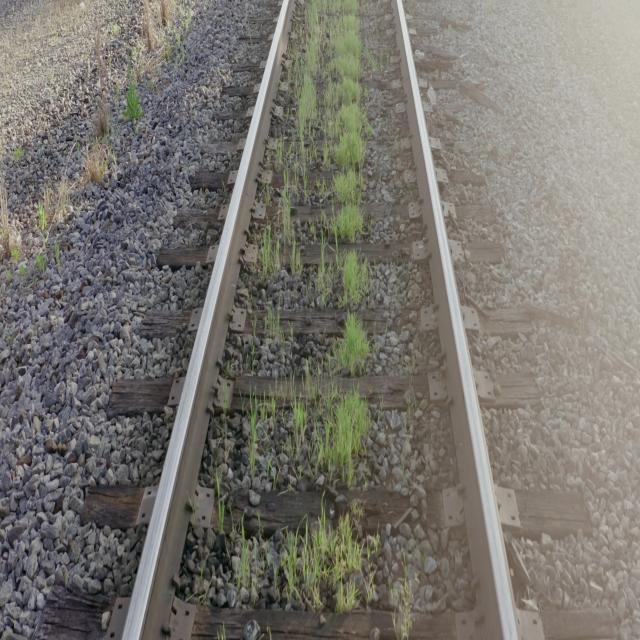Plant: (279, 0, 368, 242), (265, 509, 379, 611), (291, 391, 370, 487), (315, 240, 370, 307), (331, 313, 370, 376), (246, 396, 270, 480), (232, 533, 260, 602), (282, 169, 300, 273), (260, 224, 281, 280), (268, 311, 279, 336)
